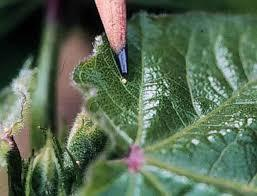Insects: (119, 76, 130, 86)
